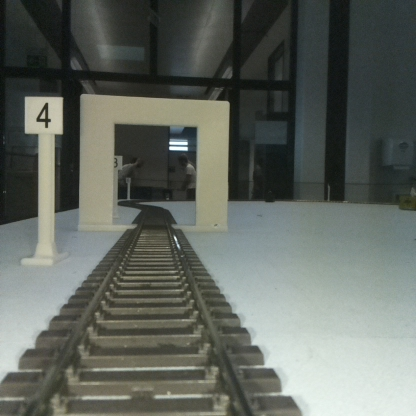white-info-4: (24, 96, 63, 263)
